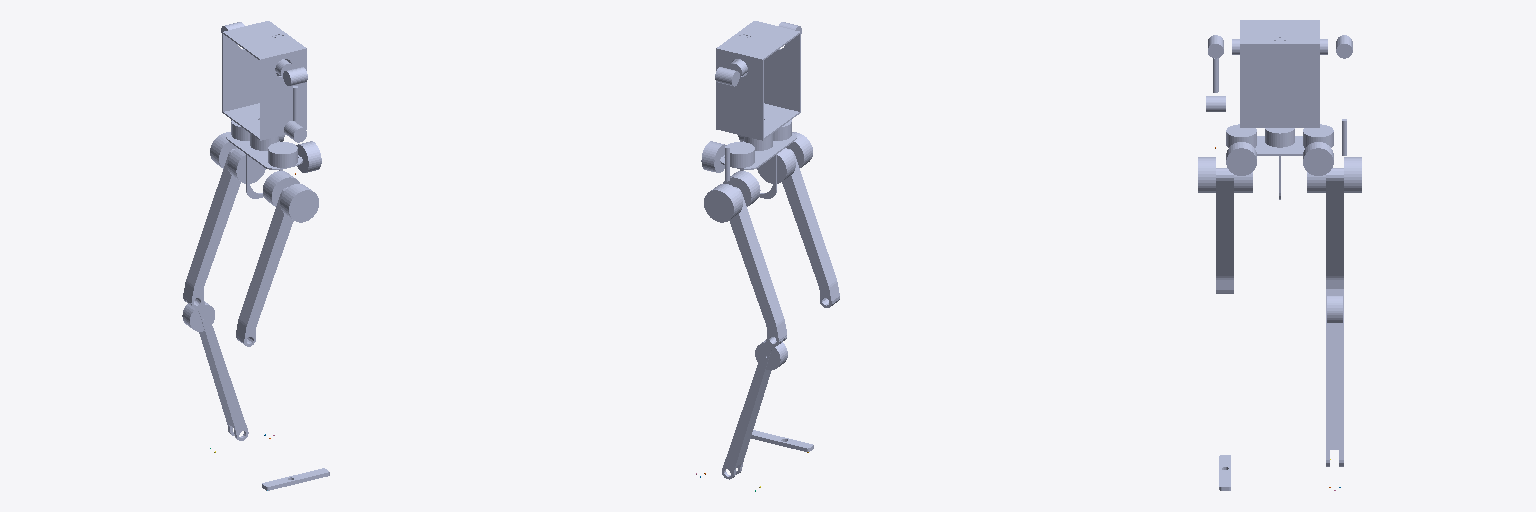
The robot description file, URDF, robot "m5fanqu_17dof":
<?xml version='1.0' encoding='utf-8'?>
<robot name="m5fanqu_17dof">
  <link name="base_link">
    <inertial>
      <origin xyz="0.0 0.0 0.02721" rpy="0 0 0" />
      <mass value="8.076" />
      <inertia ixx="0.09857576635" ixy="0.0" ixz="0.0" iyy="0.0158295577" iyz="0.0" izz="0.09808891843999999" />
    </inertial>
    <visual>
      <origin xyz="0 0 0" rpy="0 0 0" />
      <geometry>
        <mesh filename="mia-v5-fanqu/meshes/base_link.STL" />
      </geometry>
      <material name="">
        <color rgba="0.792156862745098 0.819607843137255 0.933333333333333 1" />
      </material>
    </visual>
    <collision>
      <origin xyz="0 0 0" rpy="0 0 0" />
      <geometry>
        <mesh filename="mia-v5-fanqu/meshes/base_link.STL" />
      </geometry>
    </collision>
  </link>
  <link name="l_leg_hip_yaw_link">
    <inertial>
      <origin xyz="0.09487999999999999 0.0 -0.006" rpy="0 0 0" />
      <mass value="2.76" />
      <inertia ixx="0.003020625" ixy="0.0" ixz="0.0" iyy="0.00248001304" iyz="0.0" izz="0.00248001304" />
    </inertial>
    <visual>
      <origin xyz="0 0 0" rpy="0 0 0" />
      <geometry>
        <mesh filename="mia-v5-fanqu/meshes/l_leg_hip_yaw_link.STL" />
      </geometry>
      <material name="">
        <color rgba="0.792156862745098 0.819607843137255 0.933333333333333 1" />
      </material>
    </visual>
    <collision>
      <origin xyz="0 0 0" rpy="0 0 0" />
      <geometry>
        <mesh filename="mia-v5-fanqu/meshes/l_leg_hip_yaw_link.STL" />
      </geometry>
    </collision>
  </link>
  <joint name="l_leg_hip_yaw_joint" type="revolute">
    <origin xyz="0 0.131 0.006" rpy="0 0 0" />
    <parent link="base_link" />
    <child link="l_leg_hip_yaw_link" />
    <axis xyz="0 0 1" />
    <limit lower="-0.45356" upper="0.52333" effort="330" velocity="19.154" />
  </joint>
  <link name="l_leg_hip_roll_link">
    <inertial>
      <origin xyz="-0.075 -0.006 -0.1085" rpy="0 0 0" />
      <mass value="2.75" />
      <inertia ixx="0.003581416" ixy="0.0" ixz="0.0" iyy="0.0052855" iyz="0.0" izz="0.003581416" />
    </inertial>
    <visual>
      <origin xyz="0 0 0" rpy="0 0 0" />
      <geometry>
        <mesh filename="mia-v5-fanqu/meshes/l_leg_hip_roll_link.STL" />
      </geometry>
      <material name="">
        <color rgba="0.792156862745098 0.819607843137255 0.933333333333333 1" />
      </material>
    </visual>
    <collision>
      <origin xyz="0 0 0" rpy="0 0 0" />
      <geometry>
        <mesh filename="mia-v5-fanqu/meshes/l_leg_hip_roll_link.STL" />
      </geometry>
    </collision>
  </link>
  <joint name="l_leg_hip_roll_joint" type="revolute">
    <origin xyz="0.075 0 -0.006" rpy="0 0 0" />
    <parent link="l_leg_hip_yaw_link" />
    <child link="l_leg_hip_roll_link" />
    <axis xyz="1 0 0" />
    <limit lower="-0.26167" upper="0.34889" effort="330" velocity="19.154" />
  </joint>
  <link name="l_leg_hip_pitch_link">
    <inertial>
      <origin xyz="-0.06179 0.05205 -0.1584" rpy="0 0 0" />
      <mass value="7.732" />
      <inertia ixx="0.23302097018" ixy="-0.01053448731" ixz="-0.08513872883" iyy="0.26027890823" iyz="-0.02700791964" izz="0.04574700682" />
    </inertial>
    <visual>
      <origin xyz="0 0 0" rpy="0 0 0" />
      <geometry>
        <mesh filename="mia-v5-fanqu/meshes/l_leg_hip_pitch_link.STL" />
      </geometry>
      <material name="">
        <color rgba="0.792156862745098 0.819607843137255 0.933333333333333 1" />
      </material>
    </visual>
    <collision>
      <origin xyz="0 0 0" rpy="0 0 0" />
      <geometry>
        <mesh filename="mia-v5-fanqu/meshes/l_leg_hip_pitch_link.STL" />
      </geometry>
    </collision>
  </link>
  <joint name="l_leg_hip_pitch_joint" type="revolute">
    <origin xyz="-0.075 0.026 -0.1085" rpy="0 0 0" />
    <parent link="l_leg_hip_roll_link" />
    <child link="l_leg_hip_pitch_link" />
    <axis xyz="0 1 0" />
    <limit lower="-2.09" upper="1.91" effort="396" velocity="24.073" />
  </joint>
  <link name="l_leg_knee_link">
    <inertial>
      <origin xyz="0.06337 0.0 -0.18336000000000002" rpy="0 0 0" />
      <mass value="4.612" />
      <inertia ixx="0.12110094389" ixy="0.0" ixz="0.039634958320000004" iyy="0.13502121028" iyz="0.0" izz="0.01644670384" />
    </inertial>
    <visual>
      <origin xyz="0 0 0" rpy="0 0 0" />
      <geometry>
        <mesh filename="mia-v5-fanqu/meshes/l_leg_knee_link.STL" />
      </geometry>
      <material name="">
        <color rgba="0.792156862745098 0.819607843137255 0.933333333333333 1" />
      </material>
    </visual>
    <collision>
      <origin xyz="0 0 0" rpy="0 0 0" />
      <geometry>
        <mesh filename="mia-v5-fanqu/meshes/l_leg_knee_link.STL" />
      </geometry>
    </collision>
  </link>
  <joint name="l_leg_knee_joint" type="revolute">
    <origin xyz="-0.18469 0.03 -0.50743" rpy="0 0 0" />
    <parent link="l_leg_hip_pitch_link" />
    <child link="l_leg_knee_link" />
    <axis xyz="0 1 0" />
    <limit lower="-1.81" upper="0.17" effort="396" velocity="24.073" />
  </joint>
  <link name="l_leg_ankle_pitch_link">
    <inertial>
      <origin xyz="0.02067 0.0 -0.042" rpy="0 0 0" />
      <mass value="0.73" />
      <inertia ixx="0.000113632" ixy="0.0" ixz="0.0" iyy="0.004270196" iyz="0.0" izz=" 0.004356453" />
    </inertial>
    <visual>
      <origin xyz="0 0 0" rpy="0 0 0" />
      <geometry>
        <mesh filename="mia-v5-fanqu/meshes/l_leg_ankle_pitch_link.STL" />
      </geometry>
      <material name="">
        <color rgba="0.792156862745098 0.819607843137255 0.933333333333333 1" />
      </material>
    </visual>
    <collision>
      <origin xyz="0 0 0" rpy="0 0 0" />
      <geometry>
        <mesh filename="mia-v5-fanqu/meshes/l_leg_ankle_pitch_link.STL" />
      </geometry>
    </collision>
  </link>
  <joint name="l_leg_ankle_pitch_joint" type="revolute">
    <origin xyz="0.18521 0 -0.56333" rpy="0 0 0" />
    <parent link="l_leg_knee_link" />
    <child link="l_leg_ankle_pitch_link" />
    <axis xyz="0 1 0" />
    <limit lower="-0.95944" upper="0.61056" effort="330" velocity="19.154" />
  </joint>
  <link name="r_leg_hip_yaw_link">
    <inertial>
      <origin xyz="0.09487999999999999 0.0 -0.006" rpy="0 0 0" />
      <mass value="2.76" />
      <inertia ixx="0.003020625" ixy="0.0" ixz="0.0" iyy="0.00248001304" iyz="0.0" izz="0.00248001304" />
    </inertial>
    <visual>
      <origin xyz="0 0 0" rpy="0 0 0" />
      <geometry>
        <mesh filename="mia-v5-fanqu/meshes/r_leg_hip_yaw_link.STL" />
      </geometry>
      <material name="">
        <color rgba="0.792156862745098 0.819607843137255 0.933333333333333 1" />
      </material>
    </visual>
    <collision>
      <origin xyz="0 0 0" rpy="0 0 0" />
      <geometry>
        <mesh filename="mia-v5-fanqu/meshes/r_leg_hip_yaw_link.STL" />
      </geometry>
    </collision>
  </link>
  <joint name="r_leg_hip_yaw_joint" type="revolute">
    <origin xyz="0 -0.131 0.006" rpy="0 0 0" />
    <parent link="base_link" />
    <child link="r_leg_hip_yaw_link" />
    <axis xyz="0 0 1" />
    <limit lower="-0.52333" upper="0.45356" effort="330" velocity="19.154" />
  </joint>
  <link name="r_leg_hip_roll_link">
    <inertial>
      <origin xyz="-0.075 0.006 -0.1085" rpy="0 0 0" />
      <mass value="2.75" />
      <inertia ixx="0.003581416" ixy="0.0" ixz="0.0" iyy="0.0052855" iyz="0.0" izz="0.003581416" />
    </inertial>
    <visual>
      <origin xyz="0 0 0" rpy="0 0 0" />
      <geometry>
        <mesh filename="mia-v5-fanqu/meshes/r_leg_hip_roll_link.STL" />
      </geometry>
      <material name="">
        <color rgba="0.792156862745098 0.819607843137255 0.933333333333333 1" />
      </material>
    </visual>
    <collision>
      <origin xyz="0 0 0" rpy="0 0 0" />
      <geometry>
        <mesh filename="mia-v5-fanqu/meshes/r_leg_hip_roll_link.STL" />
      </geometry>
    </collision>
  </link>
  <joint name="r_leg_hip_roll_joint" type="revolute">
    <origin xyz="0.075 0 -0.006" rpy="0 0 0" />
    <parent link="r_leg_hip_yaw_link" />
    <child link="r_leg_hip_roll_link" />
    <axis xyz="1 0 0" />
    <limit lower="-0.34889" upper="0.26167" effort="330" velocity="19.154" />
  </joint>
  <link name="r_leg_hip_pitch_link">
    <inertial>
      <origin xyz="-0.06179 -0.05205 -0.1584" rpy="0 0 0" />
      <mass value="7.732" />
      <inertia ixx="0.23302097018" ixy="0.01053448731" ixz="-0.08513872883" iyy="0.26027890823" iyz="0.02700791964" izz="0.04574700682" />
    </inertial>
    <visual>
      <origin xyz="0 0 0" rpy="0 0 0" />
      <geometry>
        <mesh filename="mia-v5-fanqu/meshes/r_leg_hip_pitch_link.STL" />
      </geometry>
      <material name="">
        <color rgba="0.792156862745098 0.819607843137255 0.933333333333333 1" />
      </material>
    </visual>
    <collision>
      <origin xyz="0 0 0" rpy="0 0 0" />
      <geometry>
        <mesh filename="mia-v5-fanqu/meshes/r_leg_hip_pitch_link.STL" />
      </geometry>
    </collision>
  </link>
  <joint name="r_leg_hip_pitch_joint" type="revolute">
    <origin xyz="-0.075 -0.026 -0.1085" rpy="0 0 0" />
    <parent link="r_leg_hip_roll_link" />
    <child link="r_leg_hip_pitch_link" />
    <axis xyz="0 1 0" />
    <limit lower="-2.09" upper="1.91" effort="396" velocity="24.073" />
  </joint>
  <link name="r_leg_knee_link">
    <inertial>
      <origin xyz="0.06337 0.0 -0.18336000000000002" rpy="0 0 0" />
      <mass value="4.612" />
      <inertia ixx="0.12110094389" ixy="0.0" ixz="0.039634958320000004" iyy="0.13502121028" iyz="0.0" izz="0.01644670384" />
    </inertial>
    <visual>
      <origin xyz="0 0 0" rpy="0 0 0" />
      <geometry>
        <mesh filename="mia-v5-fanqu/meshes/r_leg_knee_link.STL" />
      </geometry>
      <material name="">
        <color rgba="0.792156862745098 0.819607843137255 0.933333333333333 1" />
      </material>
    </visual>
    <collision>
      <origin xyz="0 0 0" rpy="0 0 0" />
      <geometry>
        <mesh filename="mia-v5-fanqu/meshes/r_leg_knee_link.STL" />
      </geometry>
    </collision>
  </link>
  <joint name="r_leg_knee_joint" type="revolute">
    <origin xyz="-0.18469 -0.03 -0.50743" rpy="0 0 0" />
    <parent link="r_leg_hip_pitch_link" />
    <child link="r_leg_knee_link" />
    <axis xyz="0 1 0" />
    <limit lower="-1.81" upper="0.17" effort="396" velocity="24.073" />
  </joint>
  <link name="r_leg_ankle_pitch_link">
    <inertial>
      <origin xyz="0.02067 0.0 -0.042" rpy="0 0 0" />
      <mass value="0.73" />
      <inertia ixx="0.000113632" ixy="0.0" ixz="0.0" iyy="0.004270196" iyz="0.0" izz=" 0.004356453" />
    </inertial>
    <visual>
      <origin xyz="0 0 0" rpy="0 0 0" />
      <geometry>
        <mesh filename="mia-v5-fanqu/meshes/r_leg_ankle_pitch_link.STL" />
      </geometry>
      <material name="">
        <color rgba="0.792156862745098 0.819607843137255 0.933333333333333 1" />
      </material>
    </visual>
    <collision>
      <origin xyz="0 0 0" rpy="0 0 0" />
      <geometry>
        <mesh filename="mia-v5-fanqu/meshes/r_leg_ankle_pitch_link.STL" />
      </geometry>
    </collision>
  </link>
  <joint name="r_leg_ankle_pitch_joint" type="revolute">
    <origin xyz="0.18521 0 -0.56333" rpy="0 0 0" />
    <parent link="r_leg_knee_link" />
    <child link="r_leg_ankle_pitch_link" />
    <axis xyz="0 1 0" />
    <limit lower="-0.95944" upper="0.61056" effort="330" velocity="19.154" />
  </joint>
  <link name="waist_yaw_link">
    <inertial>
      <origin xyz="-8.999999999999999e-05 0.0 0.20255" rpy="0 0 0" />
      <mass value="18.06" />
      <inertia ixx="0.4731857148" ixy="1.1e-10" ixz="-0.00023539904999999998" iyy="0.32319518935" iyz="9e-11" izz="0.27340177679" />
    </inertial>
    <visual>
      <origin xyz="0 0 0" rpy="0 0 0" />
      <geometry>
        <mesh filename="mia-v5-fanqu/meshes/waist_yaw_link.STL" />
      </geometry>
      <material name="">
        <color rgba="0.792156862745098 0.819607843137255 0.933333333333333 1" />
      </material>
    </visual>
    <collision>
      <origin xyz="0 0 0" rpy="0 0 0" />
      <geometry>
        <mesh filename="mia-v5-fanqu/meshes/waist_yaw_link.STL" />
      </geometry>
    </collision>
  </link>
  <joint name="waist_yaw_joint" type="revolute">
    <origin xyz="0 0 0.073" rpy="0 0 0" />
    <parent link="base_link" />
    <child link="waist_yaw_link" />
    <axis xyz="0 0 1" />
    <limit lower="-1.57" upper="1.57" effort="330" velocity="19.154" />
  </joint>
  <link name="l_arm_shoulder_pitch_link">
    <inertial>
      <origin xyz="0.0 0.055 0.0" rpy="0 0 0" />
      <mass value="0.63" />
      <inertia ixx="0.00024696" ixy="0.0" ixz="0.0" iyy="0.00037706813" iyz="0.0" izz="0.00037706813" />
    </inertial>
    <visual>
      <origin xyz="0 0 0" rpy="0 0 0" />
      <geometry>
        <mesh filename="mia-v5-fanqu/meshes/l_arm_shoulder_pitch_link.STL" />
      </geometry>
      <material name="">
        <color rgba="0.792156862745098 0.819607843137255 0.933333333333333 1" />
      </material>
    </visual>
    <collision>
      <origin xyz="0 0 0" rpy="0 0 0" />
      <geometry>
        <mesh filename="mia-v5-fanqu/meshes/l_arm_shoulder_pitch_link.STL" />
      </geometry>
    </collision>
  </link>
  <joint name="l_arm_shoulder_pitch_joint" type="revolute">
    <origin xyz="0 0.165 0.302" rpy="0 0 0" />
    <parent link="waist_yaw_link" />
    <child link="l_arm_shoulder_pitch_link" />
    <axis xyz="0 1 0" />
    <limit lower="-1.7444" upper="1.7444" effort="70" velocity="12.246" />
  </joint>
  <link name="l_arm_shoulder_roll_link">
    <inertial>
      <origin xyz="0.0 0.0 -0.18019" rpy="0 0 0" />
      <mass value="0.93" />
      <inertia ixx="0.00331101329" ixy="0.0" ixz="0.0" iyy="0.00318090516" iyz="0.0" izz="0.00039206813" />
    </inertial>
    <visual>
      <origin xyz="0 0 0" rpy="0 0 0" />
      <geometry>
        <mesh filename="mia-v5-fanqu/meshes/l_arm_shoulder_roll_link.STL" />
      </geometry>
      <material name="">
        <color rgba="0.792156862745098 0.819607843137255 0.933333333333333 1" />
      </material>
    </visual>
    <collision>
      <origin xyz="0 0 0" rpy="0 0 0" />
      <geometry>
        <mesh filename="mia-v5-fanqu/meshes/l_arm_shoulder_roll_link.STL" />
      </geometry>
    </collision>
  </link>
  <joint name="l_arm_shoulder_roll_joint" type="revolute">
    <origin xyz="0 0.055 0" rpy="0 0 0" />
    <parent link="l_arm_shoulder_pitch_link" />
    <child link="l_arm_shoulder_roll_link" />
    <axis xyz="1 0 0" />
    <limit lower="0" upper="1.57" effort="70" velocity="12.246" />
  </joint>
  <link name="l_arm_elbow_link">
    <inertial>
      <origin xyz="0.0 0.0 -0.125" rpy="0 0 0" />
      <mass value="0.3" />
      <inertia ixx="0.00043" ixy="0.0" ixz="0.0" iyy="0.00043" iyz="0.0" izz="0.000015" />
    </inertial>
    <visual>
      <origin xyz="0 0 0" rpy="0 0 0" />
      <geometry>
        <mesh filename="mia-v5-fanqu/meshes/l_arm_elbow_link.STL" />
      </geometry>
      <material name="">
        <color rgba="0.792156862745098 0.819607843137255 0.933333333333333 1" />
      </material>
    </visual>
    <collision>
      <origin xyz="0 0 0" rpy="0 0 0" />
      <geometry>
        <mesh filename="mia-v5-fanqu/meshes/l_arm_elbow_link.STL" />
      </geometry>
    </collision>
  </link>
  <joint name="l_arm_elbow_joint" type="revolute">
    <origin xyz="0 0 -0.216" rpy="0 0 0" />
    <parent link="l_arm_shoulder_roll_link" />
    <child link="l_arm_elbow_link" />
    <axis xyz="0 1 0" />
    <limit lower="-2.1806" upper="0.087222" effort="70" velocity="12.246" />
  </joint>
  <link name="r_arm_shoulder_pitch_link">
    <inertial>
      <origin xyz="0.0 -0.05425 0.0" rpy="0 0 0" />
      <mass value="0.63" />
      <inertia ixx="0.00024696" ixy="0.0" ixz="0.0" iyy="0.00037706813" iyz="0.0" izz="0.00037706813" />
    </inertial>
    <visual>
      <origin xyz="0 0 0" rpy="0 0 0" />
      <geometry>
        <mesh filename="mia-v5-fanqu/meshes/r_arm_shoulder_pitch_link.STL" />
      </geometry>
      <material name="">
        <color rgba="0.792156862745098 0.819607843137255 0.933333333333333 1" />
      </material>
    </visual>
    <collision>
      <origin xyz="0 0 0" rpy="0 0 0" />
      <geometry>
        <mesh filename="mia-v5-fanqu/meshes/r_arm_shoulder_pitch_link.STL" />
      </geometry>
    </collision>
  </link>
  <joint name="r_arm_shoulder_pitch_joint" type="revolute">
    <origin xyz="0 -0.165 0.302" rpy="0 0 0" />
    <parent link="waist_yaw_link" />
    <child link="r_arm_shoulder_pitch_link" />
    <axis xyz="0 1 0" />
    <limit lower="-1.7444" upper="1.7444" effort="70" velocity="12.246" />
  </joint>
  <link name="r_arm_shoulder_roll_link">
    <inertial>
      <origin xyz="0.0 0.0 -0.18019" rpy="0 0 0" />
      <mass value="0.93" />
      <inertia ixx="0.00331101329" ixy="0.0" ixz="0.0" iyy="0.00318090516" iyz="0.0" izz="0.00039206813" />
    </inertial>
    <visual>
      <origin xyz="0 0 0" rpy="0 0 0" />
      <geometry>
        <mesh filename="mia-v5-fanqu/meshes/r_arm_shoulder_roll_link.STL" />
      </geometry>
      <material name="">
        <color rgba="0.792156862745098 0.819607843137255 0.933333333333333 1" />
      </material>
    </visual>
    <collision>
      <origin xyz="0 0 0" rpy="0 0 0" />
      <geometry>
        <mesh filename="mia-v5-fanqu/meshes/r_arm_shoulder_roll_link.STL" />
      </geometry>
    </collision>
  </link>
  <joint name="r_arm_shoulder_roll_joint" type="revolute">
    <origin xyz="0 -0.05425 0" rpy="0 0 0" />
    <parent link="r_arm_shoulder_pitch_link" />
    <child link="r_arm_shoulder_roll_link" />
    <axis xyz="1 0 0" />
    <limit lower="-1.57" upper="0" effort="70" velocity="12.246" />
  </joint>
  <link name="r_arm_elbow_link">
    <inertial>
      <origin xyz="0.0 0.0 -0.125" rpy="0 0 0" />
      <mass value="0.3" />
      <inertia ixx="0.00043" ixy="0.0" ixz="0.0" iyy="0.00043" iyz="0.0" izz="0.000015" />
    </inertial>
    <visual>
      <origin xyz="0 0 0" rpy="0 0 0" />
      <geometry>
        <mesh filename="mia-v5-fanqu/meshes/r_arm_elbow_link.STL" />
      </geometry>
      <material name="">
        <color rgba="0.792156862745098 0.819607843137255 0.933333333333333 1" />
      </material>
    </visual>
    <collision>
      <origin xyz="0 0 0" rpy="0 0 0" />
      <geometry>
        <mesh filename="mia-v5-fanqu/meshes/r_arm_elbow_link.STL" />
      </geometry>
    </collision>
  </link>
  <joint name="r_arm_elbow_joint" type="revolute">
    <origin xyz="0 0 -0.216" rpy="0 0 0" />
    <parent link="r_arm_shoulder_roll_link" />
    <child link="r_arm_elbow_link" />
    <axis xyz="0 1 0" />
    <limit lower="-2.1806" upper="0.087222" effort="70" velocity="12.246" />
  </joint>
  <link name="l_foot_sphere_1_link">
    <visual>
      <geometry>
        <sphere radius="0.003" />
      </geometry>
    </visual>
  </link>
  <joint name="l_foot_sphere_1_joint" type="fixed">
    <parent link="l_leg_ankle_pitch_link" />
    <child link="l_foot_sphere_1_link" />
    <origin xyz="-0.105323727131 0.016999999553 -0.0494999997318" rpy="0 0 0" />
  </joint>
  <link name="l_foot_sphere_2_link">
    <visual>
      <geometry>
        <sphere radius="0.003" />
      </geometry>
    </visual>
  </link>
  <joint name="l_foot_sphere_2_joint" type="fixed">
    <parent link="l_leg_ankle_pitch_link" />
    <child link="l_foot_sphere_2_link" />
    <origin xyz="-0.105323727131 -0.016999999553 -0.0494999997318" rpy="0 0 0" />
  </joint>
  <link name="l_foot_sphere_3_link">
    <visual>
      <geometry>
        <sphere radius="0.003" />
      </geometry>
    </visual>
  </link>
  <joint name="l_foot_sphere_3_joint" type="fixed">
    <parent link="l_leg_ankle_pitch_link" />
    <child link="l_foot_sphere_3_link" />
    <origin xyz="0.119676278234 0.016999999553 -0.0494999997318" rpy="0 0 0" />
  </joint>
  <link name="l_foot_sphere_4_link">
    <visual>
      <geometry>
        <sphere radius="0.003" />
      </geometry>
    </visual>
  </link>
  <joint name="l_foot_sphere_4_joint" type="fixed">
    <parent link="l_leg_ankle_pitch_link" />
    <child link="l_foot_sphere_4_link" />
    <origin xyz="0.119676278234 -0.016999999553 -0.0494999997318" rpy="0 0 0" />
  </joint>
  <link name="l_foot_sphere_5_link">
    <visual>
      <geometry>
        <sphere radius="0.003" />
      </geometry>
    </visual>
  </link>
  <joint name="l_foot_sphere_5_joint" type="fixed">
    <parent link="l_leg_ankle_pitch_link" />
    <child link="l_foot_sphere_5_link" />
    <origin xyz="0.144676278234 0 -0.0494999997318" rpy="0 0 0" />
  </joint>
  <link name="l_hand_sphere_link">
    <visual>
      <geometry>
        <sphere radius="0.003" />
      </geometry>
    </visual>
  </link>
  <joint name="l_hand_sphere_joint" type="fixed">
    <parent link="l_arm_elbow_link" />
    <child link="l_hand_sphere_link" />
    <origin xyz="0 0 -0.164999997616" rpy="0 0 0" />
  </joint>
  <link name="r_foot_sphere_1_link">
    <visual>
      <geometry>
        <sphere radius="0.003" />
      </geometry>
    </visual>
  </link>
  <joint name="r_foot_sphere_1_joint" type="fixed">
    <parent link="r_leg_ankle_pitch_link" />
    <child link="r_foot_sphere_1_link" />
    <origin xyz="-0.105323727131 0.016999999553 -0.0494999997318" rpy="0 0 0" />
  </joint>
  <link name="r_foot_sphere_2_link">
    <visual>
      <geometry>
        <sphere radius="0.003" />
      </geometry>
    </visual>
  </link>
  <joint name="r_foot_sphere_2_joint" type="fixed">
    <parent link="r_leg_ankle_pitch_link" />
    <child link="r_foot_sphere_2_link" />
    <origin xyz="-0.105323727131 -0.016999999553 -0.0494999997318" rpy="0 0 0" />
  </joint>
  <link name="r_foot_sphere_3_link">
    <visual>
      <geometry>
        <sphere radius="0.003" />
      </geometry>
    </visual>
  </link>
  <joint name="r_foot_sphere_3_joint" type="fixed">
    <parent link="r_leg_ankle_pitch_link" />
    <child link="r_foot_sphere_3_link" />
    <origin xyz="0.119676278234 0.016999999553 -0.0494999997318" rpy="0 0 0" />
  </joint>
  <link name="r_foot_sphere_4_link">
    <visual>
      <geometry>
        <sphere radius="0.003" />
      </geometry>
    </visual>
  </link>
  <joint name="r_foot_sphere_4_joint" type="fixed">
    <parent link="r_leg_ankle_pitch_link" />
    <child link="r_foot_sphere_4_link" />
    <origin xyz="0.119676278234 -0.016999999553 -0.0494999997318" rpy="0 0 0" />
  </joint>
  <link name="r_foot_sphere_5_link">
    <visual>
      <geometry>
        <sphere radius="0.003" />
      </geometry>
    </visual>
  </link>
  <joint name="r_foot_sphere_5_joint" type="fixed">
    <parent link="r_leg_ankle_pitch_link" />
    <child link="r_foot_sphere_5_link" />
    <origin xyz="0.144676278234 0 -0.0494999997318" rpy="0 0 0" />
  </joint>
  <link name="r_hand_sphere_link">
    <visual>
      <geometry>
        <sphere radius="0.003" />
      </geometry>
    </visual>
  </link>
  <joint name="r_hand_sphere_joint" type="fixed">
    <parent link="r_arm_elbow_link" />
    <child link="r_hand_sphere_link" />
    <origin xyz="0 0 -0.164999997616" rpy="0 0 0" />
  </joint>
</robot>

--- Facts derived from the render (not from the file) ---
The picture shows the robot from 3 angles, left to right: view 1: azimuth 30°, elevation 25°; view 2: azimuth 150°, elevation 25°; view 3: azimuth 270°, elevation 25°; orthographic projection.
Model m5fanqu_17dof with 30 links and 29 joints (17 revolute, 12 fixed), rooted at base_link, posed all joints at 0.
Links seen in each view (by area): view 1: waist_yaw_link, r_leg_hip_pitch_link, l_leg_hip_pitch_link, l_leg_knee_link, base_link, r_leg_hip_roll_link, l_leg_hip_roll_link, r_leg_hip_yaw_link, r_leg_ankle_pitch_link; view 2: waist_yaw_link, l_leg_hip_pitch_link, r_leg_hip_pitch_link, l_leg_knee_link, base_link, l_leg_hip_roll_link, r_leg_hip_roll_link, l_leg_hip_yaw_link, r_leg_ankle_pitch_link; view 3: waist_yaw_link, l_leg_knee_link, r_leg_hip_pitch_link, l_leg_hip_pitch_link, base_link, l_leg_hip_yaw_link, r_leg_hip_yaw_link, r_arm_shoulder_roll_link.
Boxes of the visible links, x1,y1,x2,y2 form: waist_yaw_link: (222, 21, 306, 140); r_leg_hip_pitch_link: (236, 184, 318, 346); l_leg_hip_pitch_link: (183, 132, 240, 307); l_leg_knee_link: (182, 295, 248, 440); base_link: (226, 120, 302, 198); r_leg_hip_roll_link: (263, 171, 299, 206); l_leg_hip_roll_link: (227, 148, 265, 183); r_leg_hip_yaw_link: (296, 141, 321, 172); r_leg_ankle_pitch_link: (262, 468, 329, 490); waist_yaw_link: (716, 21, 800, 140); l_leg_hip_pitch_link: (704, 184, 786, 346); r_leg_hip_pitch_link: (782, 132, 839, 307); l_leg_knee_link: (722, 336, 787, 479); base_link: (720, 120, 796, 198); l_leg_hip_roll_link: (723, 171, 760, 206); r_leg_hip_roll_link: (757, 148, 795, 183); l_leg_hip_yaw_link: (701, 141, 726, 172); r_leg_ankle_pitch_link: (751, 430, 813, 451); waist_yaw_link: (1232, 20, 1327, 127); l_leg_knee_link: (1326, 289, 1343, 466); r_leg_hip_pitch_link: (1198, 157, 1233, 293); l_leg_hip_pitch_link: (1326, 157, 1361, 288); base_link: (1226, 124, 1333, 199); l_leg_hip_yaw_link: (1303, 142, 1333, 175); r_leg_hip_yaw_link: (1226, 142, 1256, 175); r_arm_shoulder_roll_link: (1206, 58, 1225, 111).
Size in the robot's own frame: 0.364 by 0.562 by 1.66 metres.
14 mesh visuals loaded from 18 distinct referenced files (14 binary STL); not drawn: 4 (reference not matched to a file when rendering).
